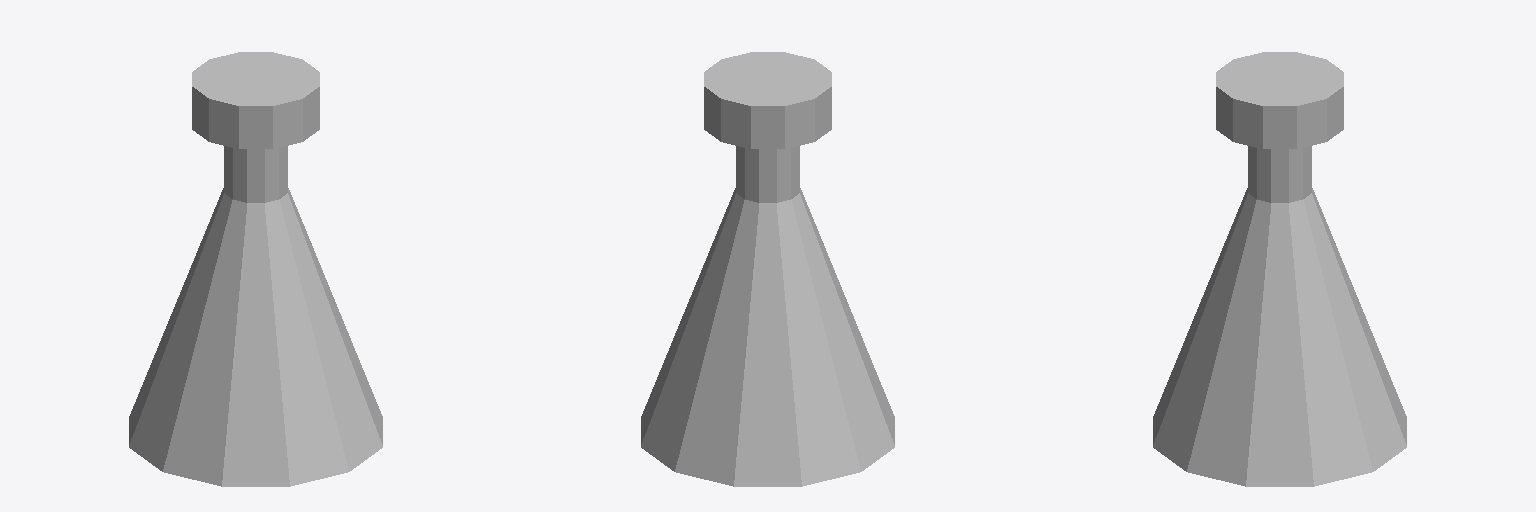
Rendered from Potion Bottle #4.obj.
3 renders of one model, left to right at view 1: azimuth 30°, elevation 25°; view 2: azimuth 150°, elevation 25°; view 3: azimuth 270°, elevation 25°, orthographic.
Visible parts, largest first — view 1: Body, Mouth, Neck; view 2: Body, Mouth, Neck; view 3: Body, Mouth, Neck.
Boxes of the visible parts, x1=… form: Body: x1=129, y1=188, x2=382, y2=486; Mouth: x1=192, y1=52, x2=319, y2=148; Neck: x1=224, y1=146, x2=287, y2=202; Body: x1=641, y1=188, x2=894, y2=486; Mouth: x1=704, y1=52, x2=831, y2=148; Neck: x1=736, y1=146, x2=799, y2=202; Body: x1=1153, y1=188, x2=1406, y2=486; Mouth: x1=1216, y1=52, x2=1343, y2=148; Neck: x1=1248, y1=146, x2=1311, y2=202.
Size of the model in its own units: 1 by 1.53 by 1.